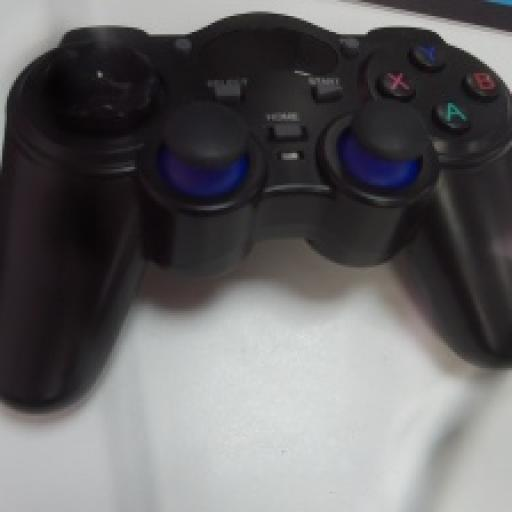game pad: (0, 14, 510, 409)
